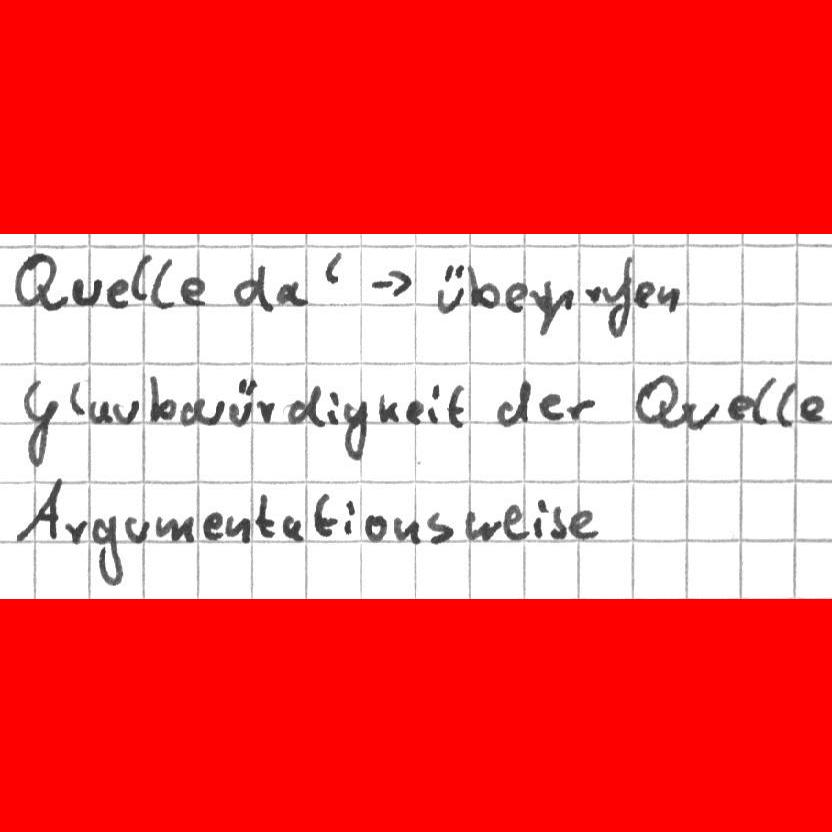Char: (19, 378, 58, 470), (15, 252, 70, 314), (13, 477, 62, 542), (635, 375, 680, 430), (91, 511, 123, 587), (606, 256, 634, 342), (532, 279, 572, 337), (230, 260, 274, 312), (434, 261, 468, 313), (285, 383, 322, 430), (496, 379, 530, 429), (343, 398, 369, 463), (227, 375, 257, 429), (468, 261, 501, 308), (147, 372, 177, 423), (463, 507, 501, 545), (680, 396, 720, 432), (369, 267, 413, 299), (181, 394, 222, 428), (150, 256, 175, 310), (154, 512, 194, 545), (311, 490, 336, 539), (567, 507, 601, 542), (425, 507, 454, 545), (253, 492, 275, 541), (130, 252, 150, 305), (775, 380, 797, 428), (70, 274, 100, 309), (275, 277, 307, 309), (754, 375, 774, 426), (502, 502, 527, 542), (446, 382, 466, 429), (391, 515, 420, 547), (180, 275, 208, 308), (726, 392, 754, 424), (564, 396, 596, 422), (503, 279, 527, 313), (322, 249, 344, 286), (106, 275, 128, 311), (124, 514, 149, 545), (801, 392, 825, 424), (201, 509, 224, 542), (225, 512, 248, 545), (280, 513, 304, 544), (547, 503, 566, 542), (363, 513, 386, 545), (539, 392, 563, 422), (656, 282, 680, 312), (113, 397, 137, 426), (377, 395, 400, 425), (67, 380, 86, 416), (633, 279, 655, 310), (531, 496, 546, 541), (89, 397, 111, 426), (254, 396, 276, 424), (583, 280, 606, 306), (64, 518, 87, 543), (428, 384, 442, 425), (327, 388, 341, 426), (343, 499, 357, 537), (405, 400, 425, 425)
